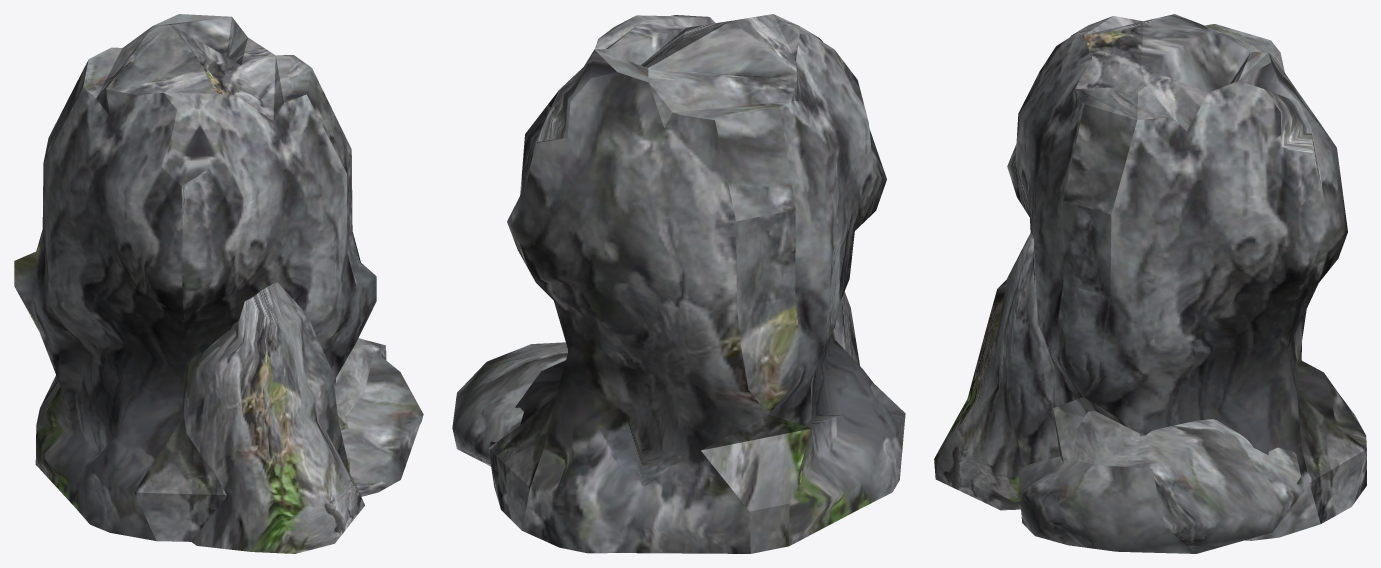
Rendered from furni_0200928.FBX.
3 views of the same model, side by side, from view 1: azimuth 30°, elevation 25°; view 2: azimuth 150°, elevation 25°; view 3: azimuth 270°, elevation 25° (orthographic). The views are drawn at different scales.
Visible parts, largest first — view 1: furni_0200928; view 2: furni_0200928; view 3: furni_0200928.
Boxes of the visible parts, <box> form: furni_0200928: <box>14,14,423,553</box>; furni_0200928: <box>452,14,905,553</box>; furni_0200928: <box>934,14,1366,553</box>.
Size of the model in its own units: 83.85 by 98.24 by 87.7.
Materials: 1 (1 with a texture image).
